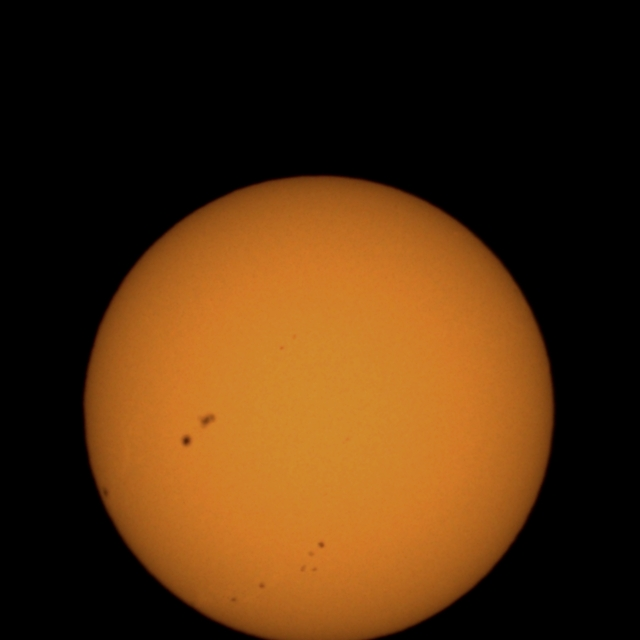sunspot: (304, 540, 326, 562), (299, 553, 321, 573), (197, 412, 218, 430), (279, 334, 298, 352), (179, 432, 194, 449), (299, 563, 318, 574), (101, 485, 110, 500), (258, 580, 267, 590), (317, 540, 326, 549), (229, 596, 238, 604), (279, 346, 284, 352)
